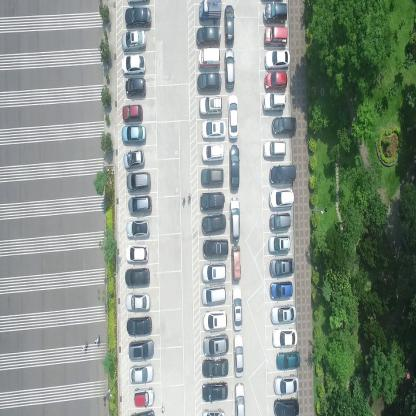car: (128, 338, 155, 363), (123, 7, 152, 29), (203, 333, 228, 358), (201, 380, 229, 402), (199, 189, 224, 213), (270, 115, 297, 137), (269, 164, 296, 186), (124, 267, 151, 289), (263, 2, 288, 25), (196, 25, 221, 48), (269, 187, 295, 209), (201, 214, 227, 236), (202, 238, 228, 260), (120, 54, 146, 76), (264, 25, 288, 48), (203, 309, 227, 332), (122, 29, 146, 52), (198, 94, 223, 116), (200, 119, 225, 141), (126, 171, 151, 193), (125, 218, 150, 240), (273, 374, 300, 394), (202, 358, 229, 378), (120, 124, 147, 144), (124, 294, 151, 314), (128, 364, 155, 384), (133, 386, 156, 409), (122, 148, 146, 170), (271, 303, 296, 324), (272, 326, 297, 347), (197, 71, 222, 92), (201, 286, 226, 307), (264, 50, 290, 70), (126, 316, 152, 336), (229, 195, 240, 242), (264, 70, 287, 92), (228, 92, 239, 138), (199, 0, 222, 22), (201, 141, 224, 163), (121, 102, 144, 124), (270, 256, 294, 277), (202, 262, 226, 283), (127, 195, 153, 214), (264, 138, 286, 160), (233, 334, 244, 378), (277, 350, 301, 370), (274, 396, 299, 415), (224, 3, 235, 46), (230, 143, 240, 190), (124, 76, 146, 97), (232, 286, 242, 332), (198, 48, 221, 68), (201, 167, 224, 187), (125, 244, 149, 263), (270, 280, 292, 300), (263, 93, 286, 112), (225, 50, 235, 90), (269, 212, 290, 231), (268, 236, 291, 253), (231, 243, 241, 280), (235, 382, 245, 415), (201, 405, 225, 415)
